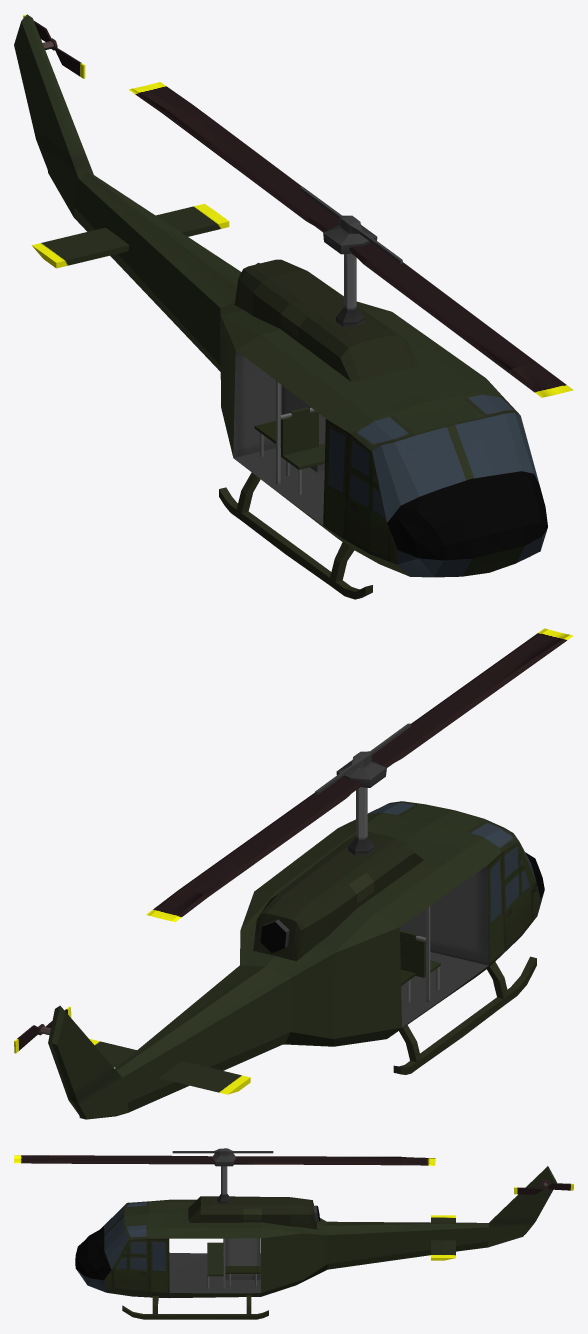
Rendered from Vehicle_UH1Interior.fbx.
3 views of the same model, one above another, from view 1: azimuth 30°, elevation 25°; view 2: azimuth 150°, elevation 25°; view 3: azimuth 270°, elevation 25° (orthographic). The views are drawn at different scales.
Parts seen in each view (by area): view 1: Cube.001_Cube.009_Cube.001_Cube.010_Cube.001_Cube.009_Cube..; view 2: Cube.001_Cube.009_Cube.001_Cube.010_Cube.001_Cube.009_Cube..; view 3: Cube.001_Cube.009_Cube.001_Cube.010_Cube.001_Cube.009_Cube...
Boxes of the visible parts, x1=… form: Cube.001_Cube.009_Cube.001_Cube.010_Cube.001_Cube.009_Cube..: x1=14, y1=14, x2=573, y2=599; Cube.001_Cube.009_Cube.001_Cube.010_Cube.001_Cube.009_Cube..: x1=14, y1=628, x2=573, y2=1119; Cube.001_Cube.009_Cube.001_Cube.010_Cube.001_Cube.009_Cube..: x1=14, y1=1148, x2=573, y2=1319.
Bounding box in the file's own units: 911 × 1484 × 5056.
